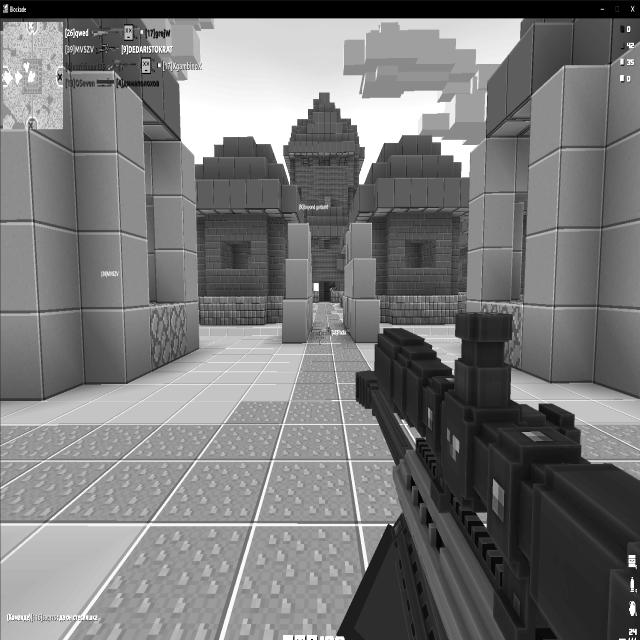Head: (332, 280, 336, 287)
Player: (330, 280, 337, 300)
